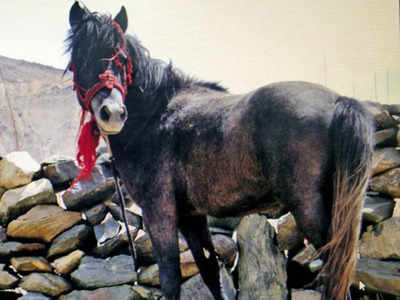equine: (55, 1, 378, 300)
